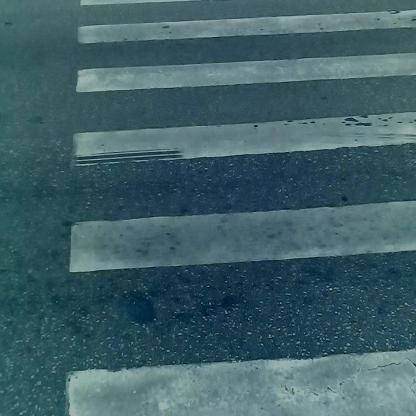crosswalk: (61, 23, 416, 416)
